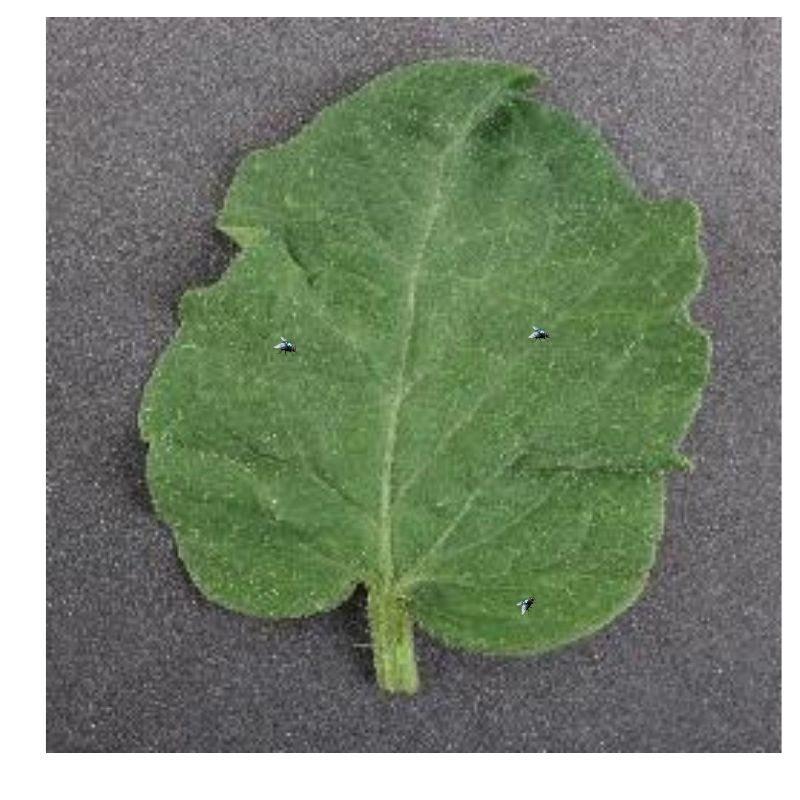liriomyza: (274, 335, 298, 357), (527, 322, 551, 342), (517, 592, 534, 616)
